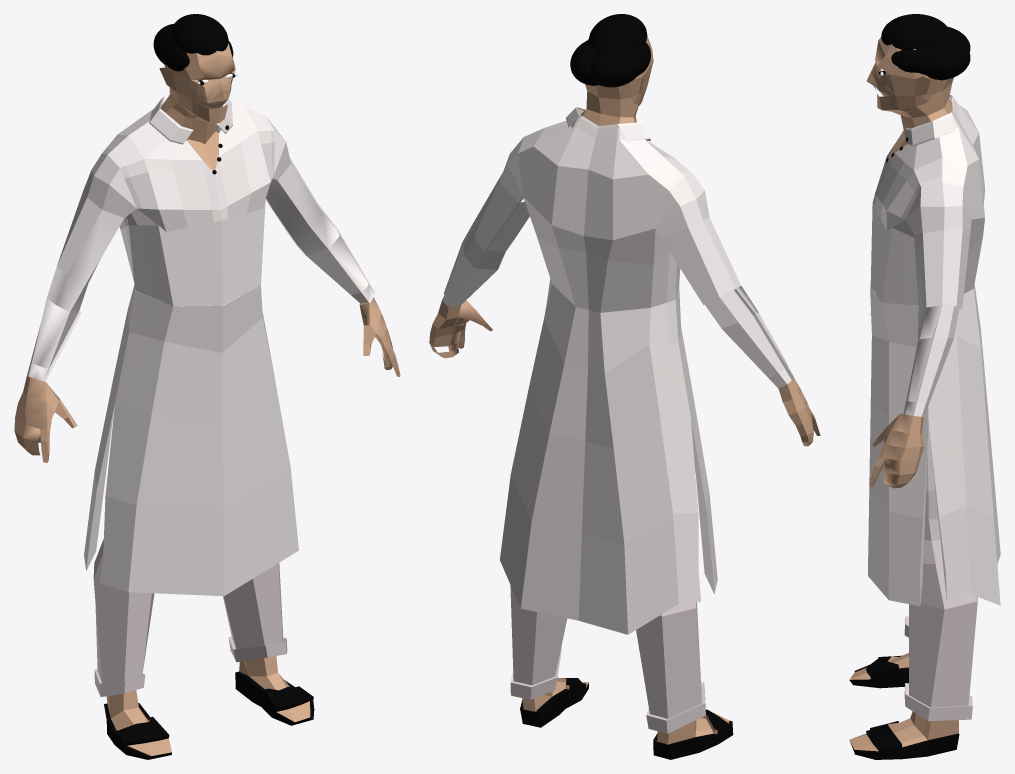
Rendered from player_final.gltf.
The picture shows the model from 3 angles, left to right: view 1: azimuth 30°, elevation 25°; view 2: azimuth 150°, elevation 25°; view 3: azimuth 270°, elevation 25°; orthographic projection.
Visible parts, largest first — view 1: Qassai, Sphere; view 2: Qassai, Sphere (×3); view 3: Qassai, Sphere (×3).
Boxes of the visible parts, left/top/right/bottom form: Qassai: left=14, top=43, right=400, bottom=759; Sphere: left=171, top=14, right=228, bottom=55; Qassai: left=429, top=36, right=820, bottom=759; Sphere (×3): left=570, top=14, right=647, bottom=87; Qassai: left=849, top=37, right=1000, bottom=759; Sphere (×3): left=881, top=14, right=970, bottom=80.
Size of the model in its own units: 196 by 351 by 69.07.
